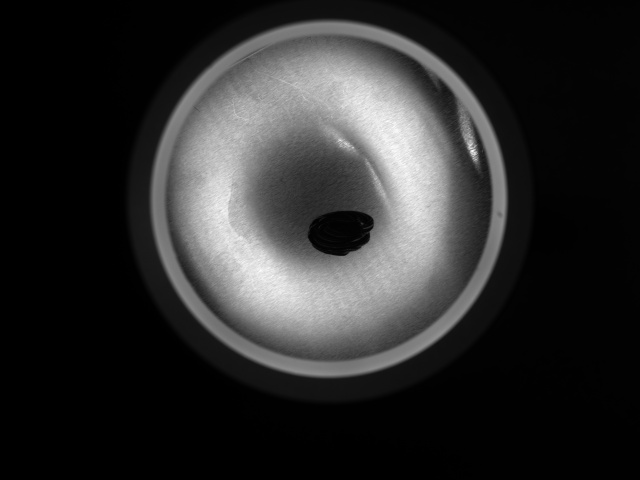zang_wu: (303, 208, 377, 260)
